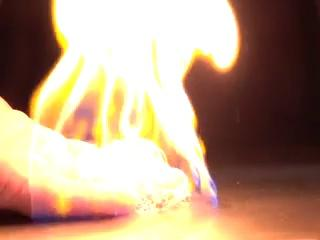Fire: (20, 0, 236, 216)
